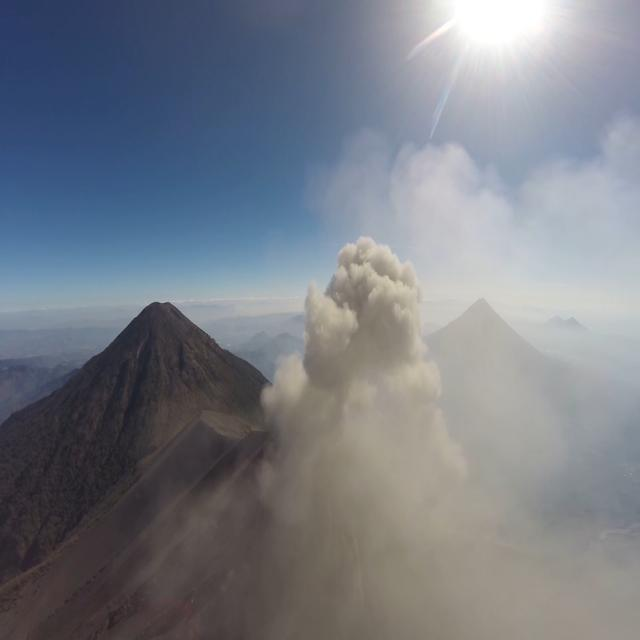Plume: (237, 210, 628, 634)
